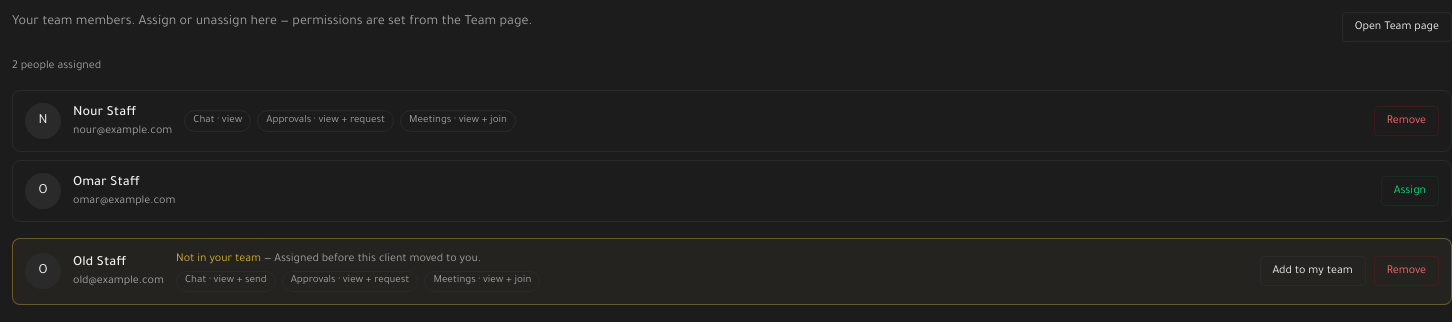
ClientStaffTab › as an account manager › unassigning an outsider removes the row
Click the button with aria-label "Remove Old Staff".
click(1406, 271)  # box [1374,256,1439,286]
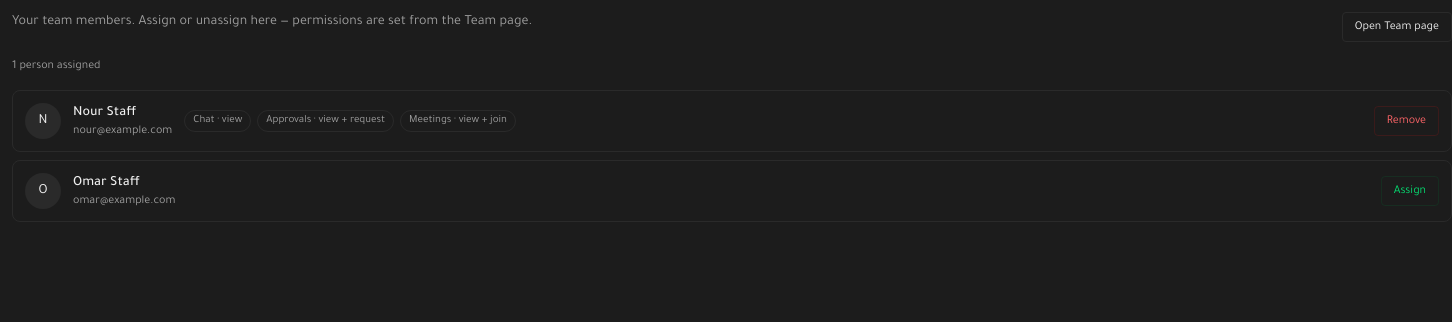
Now the text "Old Staff" is gone
